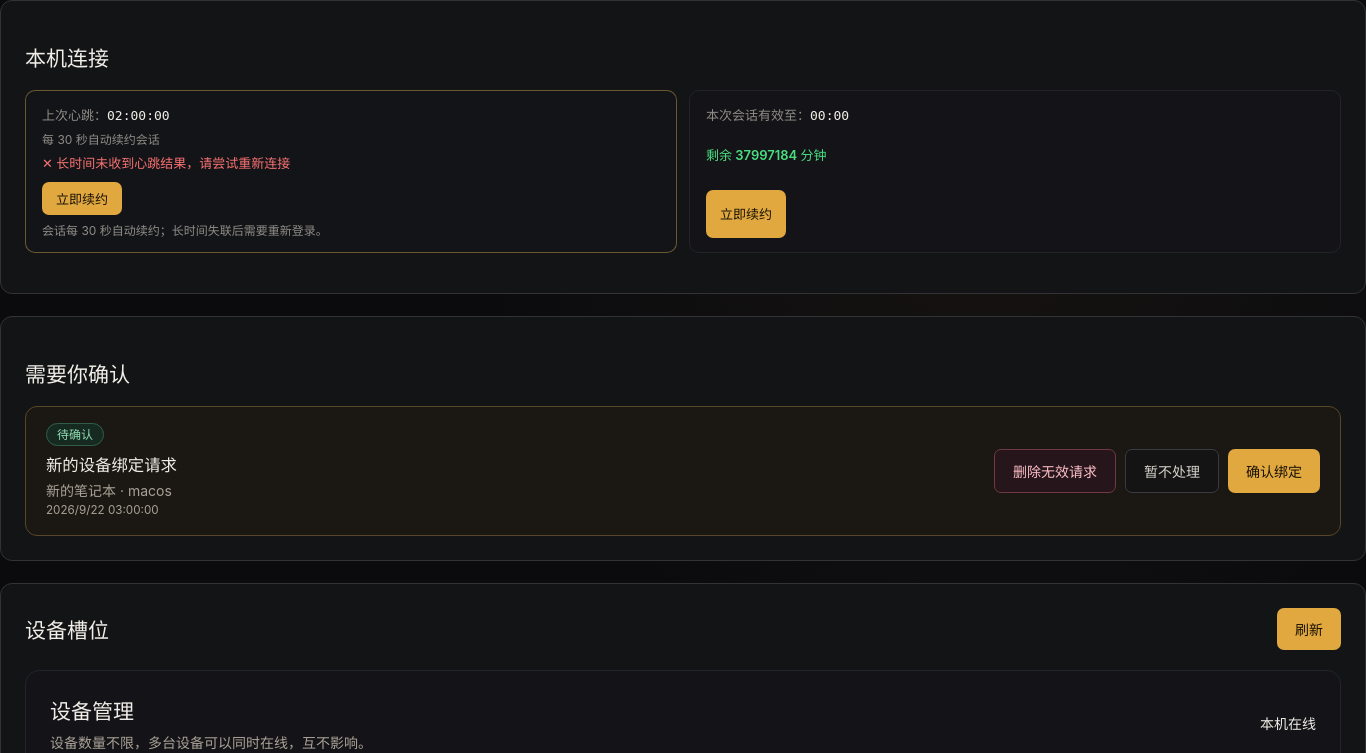
Test: deferring hides the request but keeps a way back
Click the button "暂不处理" at {"x": 1172, "y": 471}, box 1125,449 -> 1219,493
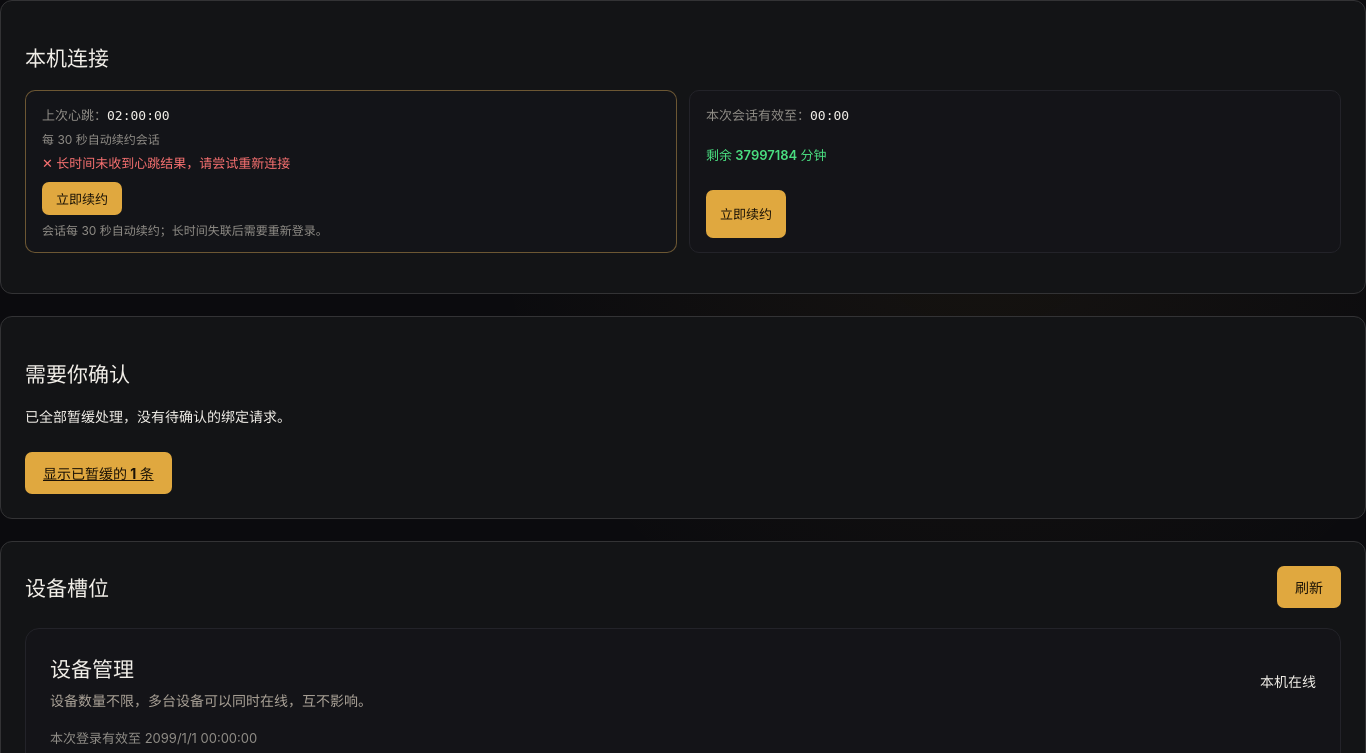
Check: the button "确认绑定" is gone
Click the button "显示已暂缓的 1 条" at {"x": 98, "y": 473}, box 25,452 -> 172,494
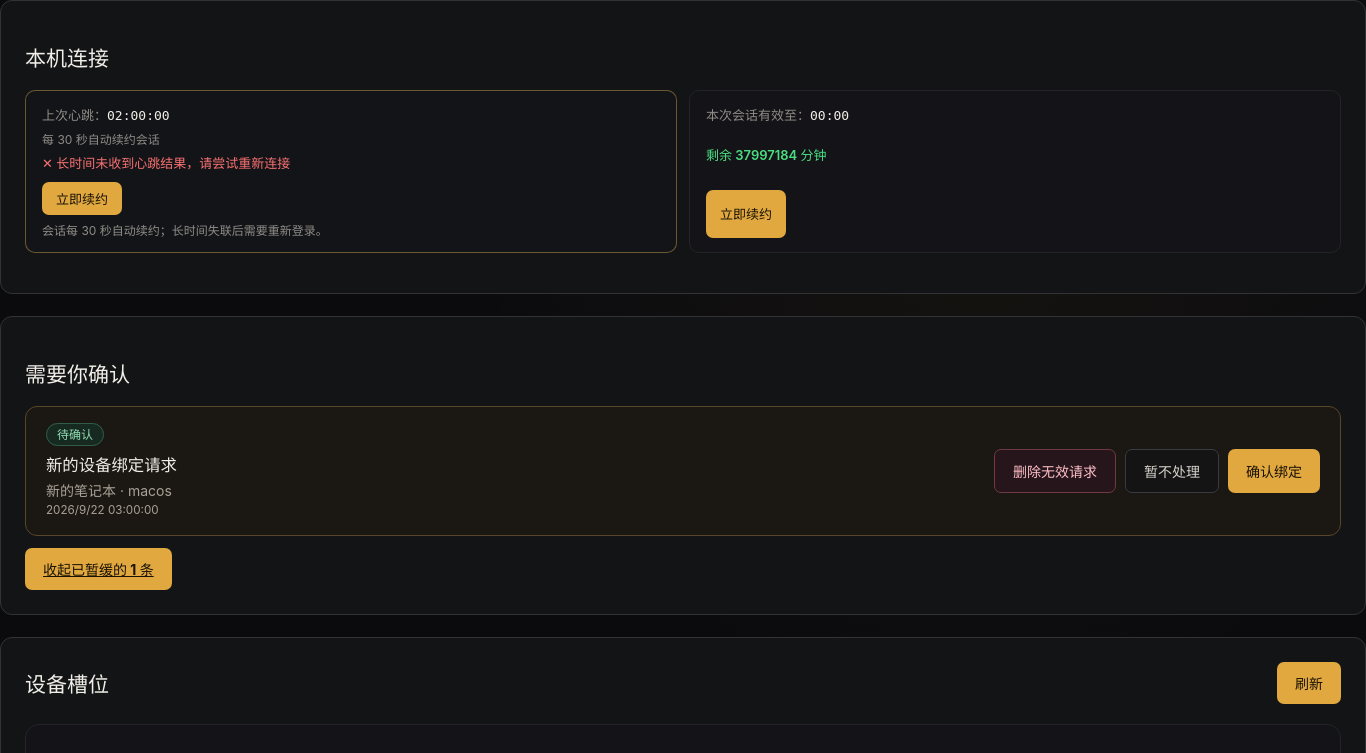
Check: the button "确认绑定" is shown, box 1228,449 -> 1320,493
